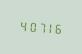four: (18, 18, 26, 32)
one: (45, 20, 53, 34)
seven: (36, 19, 44, 34)
six: (54, 20, 62, 35)
zero: (27, 19, 35, 33)
